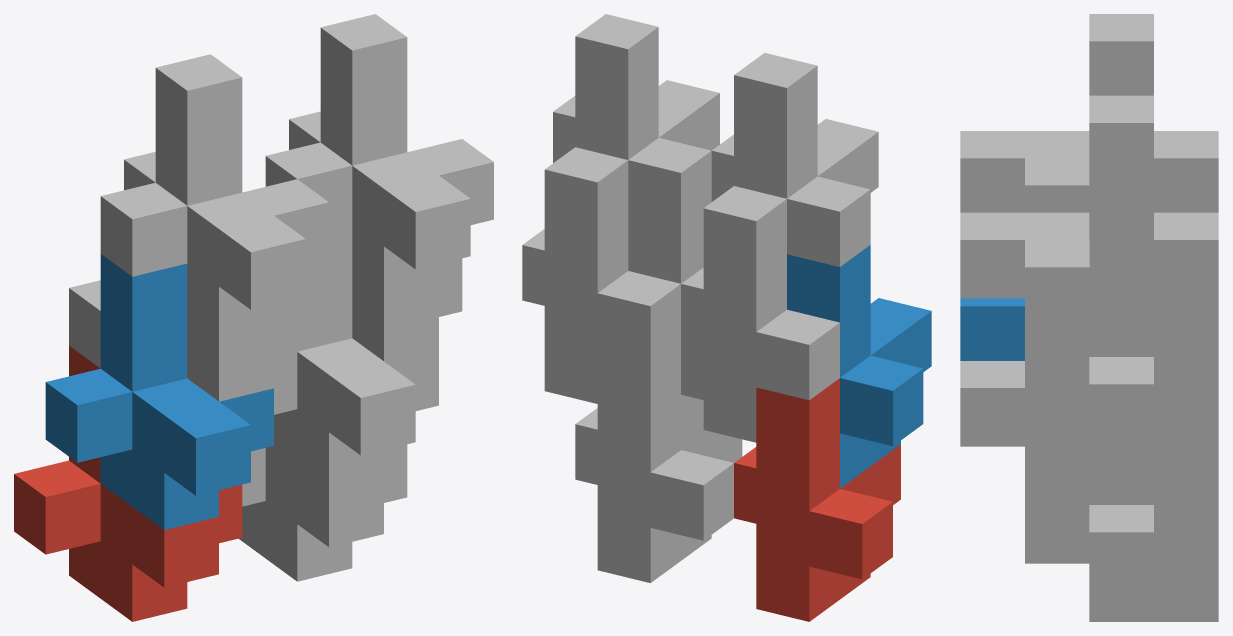
File: tiling.obj
3 renders of one model, left to right at view 1: azimuth 30°, elevation 25°; view 2: azimuth 150°, elevation 25°; view 3: azimuth 270°, elevation 25°, orthographic. The views are drawn at different scales.
Visible parts, largest first — view 1: copy_1_domain_4, copy_1_domain_2, copy_1_domain_8, copy_1_domain_6, copy_1_domain_1, copy_1_domain_5, copy_1_domain_3, copy_1_domain_7; view 2: copy_1_domain_1, copy_1_domain_5, copy_1_domain_7, copy_1_domain_3, copy_1_domain_4, copy_1_domain_8, copy_1_domain_2, copy_1_domain_6; view 3: copy_1_domain_8, copy_1_domain_7, copy_1_domain_5, copy_1_domain_4, copy_1_domain_6, copy_1_domain_3, copy_1_domain_2.
Boxes of the visible parts, bbox=[...] form: copy_1_domain_4: bbox=[100, 54, 328, 343]; copy_1_domain_2: bbox=[45, 254, 273, 529]; copy_1_domain_8: bbox=[265, 14, 493, 303]; copy_1_domain_6: bbox=[270, 223, 438, 489]; copy_1_domain_1: bbox=[14, 345, 242, 621]; copy_1_domain_5: bbox=[239, 444, 407, 581]; copy_1_domain_3: bbox=[69, 152, 297, 401]; copy_1_domain_7: bbox=[289, 111, 462, 361]; copy_1_domain_1: bbox=[734, 378, 900, 621]; copy_1_domain_5: bbox=[575, 339, 742, 582]; copy_1_domain_7: bbox=[522, 147, 680, 403]; copy_1_domain_3: bbox=[681, 186, 839, 442]; copy_1_domain_4: bbox=[711, 53, 878, 266]; copy_1_domain_8: bbox=[553, 14, 719, 228]; copy_1_domain_2: bbox=[787, 245, 931, 488]; copy_1_domain_6: bbox=[628, 212, 706, 449]; copy_1_domain_8: bbox=[960, 95, 1153, 356]; copy_1_domain_7: bbox=[1025, 212, 1218, 473]; copy_1_domain_5: bbox=[1025, 474, 1218, 621]; copy_1_domain_4: bbox=[960, 14, 1153, 212]; copy_1_domain_6: bbox=[960, 361, 1153, 504]; copy_1_domain_3: bbox=[1154, 131, 1218, 212]; copy_1_domain_2: bbox=[960, 298, 1024, 360].
Bounding box in the file's own units: 7 × 9 × 4.
